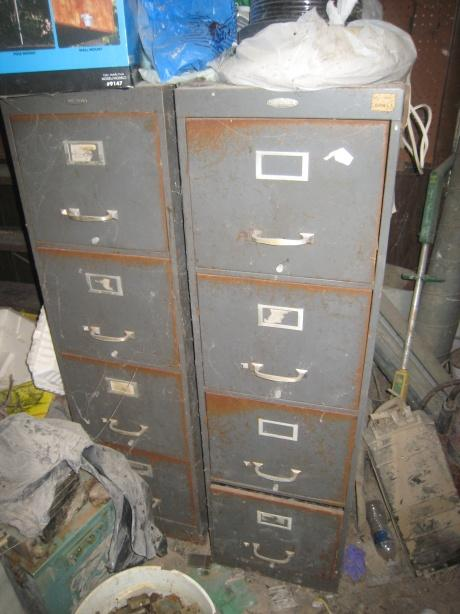Filing Cabinet: (173, 73, 406, 596), (0, 76, 207, 546)
